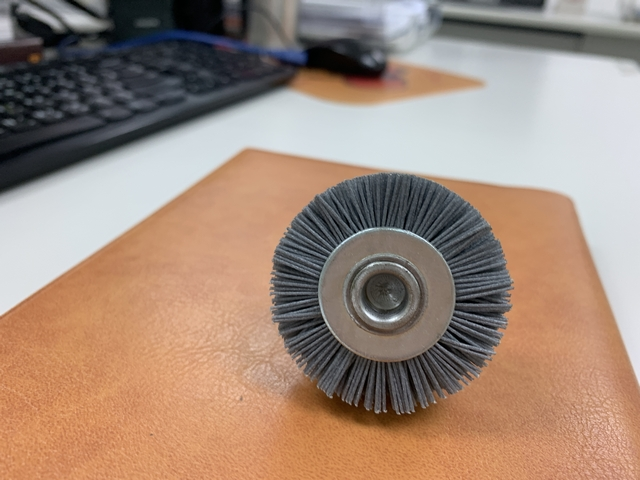Wheel Brush: (255, 162, 529, 435), (256, 211, 508, 417), (232, 150, 396, 410)
